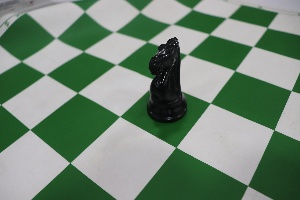black_horse: (133, 23, 197, 129)
